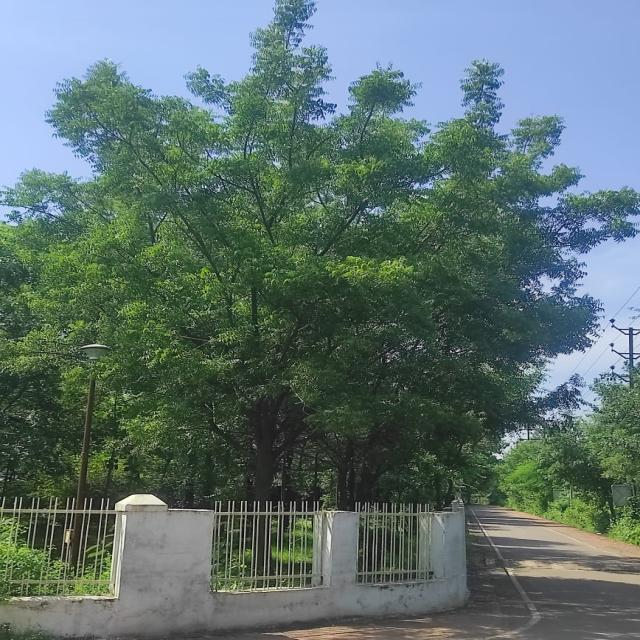Neem Tree: (69, 26, 593, 446)
